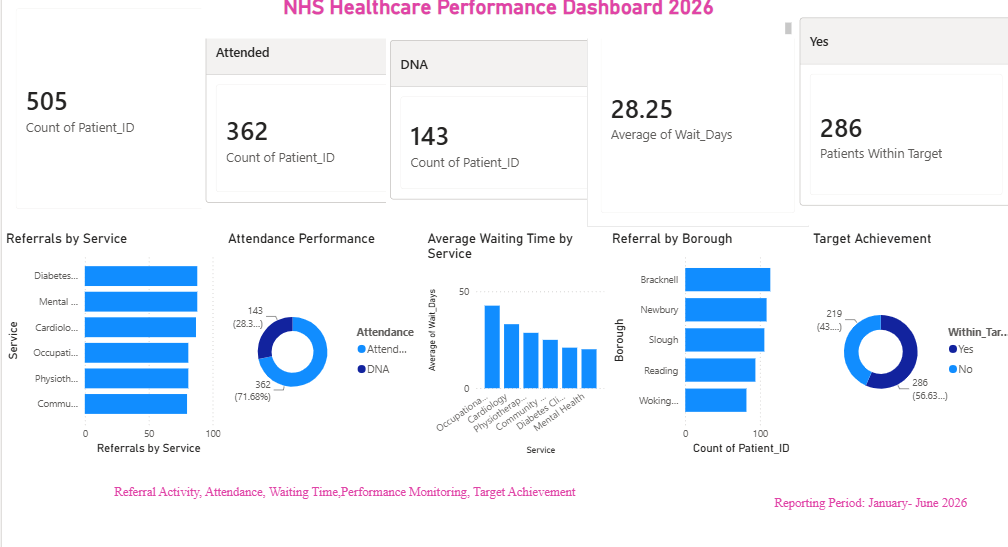

This screenshot's page, from the dashboard's own definition file:
{"tool":"powerbi","page":{"name":"Page 1","canvas":[1280,720],"ordinal":0},"visuals":[{"type":"cardVisual","fields":{"Data":["CountNonNull(Sheet2.Patient_ID)"]},"box":[10,0,280,280],"z":0},{"type":"cardVisual","fields":{"Data":["CountNonNull(Sheet2.Patient_ID)"]},"box":[0,9.4,279.7,287.2],"z":2},{"type":"cardVisual","fields":{"Data":["CountNonNull(Sheet2.Patient_ID)"],"Rows":["Sheet2.Attendance"]},"box":[251.3,26.5,279.7,270.2],"z":4},{"type":"cardVisual","fields":{"Data":["CountNonNull(Sheet2.Patient_ID)"],"Rows":["Sheet2.Attendance"]},"box":[483.8,41.6,279.7,251.3],"z":5},{"type":"cardVisual","fields":{"Data":["Avg(Sheet2.Wait_Days)"]},"box":[737,22.7,279.7,279.7],"z":6},{"type":"cardVisual","fields":{"Data":["CountNonNull(Sheet2.Patient_ID)"],"Rows":["Sheet2.Within_Target"]},"box":[999.7,13.2,279.7,287.2],"z":7},{"type":"clusteredBarChart","title":"Referrals by Service","fields":{"Category":["Sheet2.Service"],"Y":["CountNonNull(Sheet2.Patient_ID)"]},"box":[0,306,280,287],"z":8},{"type":"donutChart","title":"Attendance Performance","fields":{"Category":["Sheet2.Attendance"],"Y":["CountNonNull(Sheet2.Patient_ID)"]},"box":[280,306,251,287],"z":9},{"type":"clusteredColumnChart","title":"Average Waiting Time by Service","fields":{"Category":["Sheet2.Service"],"Y":["Avg(Sheet2.Wait_Days)"]},"box":[531,306,233,287],"z":10},{"type":"clusteredBarChart","title":"Referral by Borough","fields":{"Category":["Sheet2.Borough"],"Y":["CountNonNull(Sheet2.Patient_ID)"]},"box":[764,306,253,287],"z":11},{"type":"donutChart","title":"Target Achievement","fields":{"Category":["Sheet2.Within_Target"],"Y":["CountNonNull(Sheet2.Patient_ID)"]},"box":[1017,306,263,287],"z":12},{"type":"textbox","title":"NHS Healthcare Performance Dashboard 2026","box":[251.3,9.4,748.4,54.8],"z":13},{"type":"textbox","title":"Referral Activity, Attendance, Waiting Time,Performance Monitoring, Target Achievement","box":[100.2,627.4,663.3,64.3],"z":14},{"type":"textbox","title":"Reporting Period: January- June 2026","box":[939.2,640.6,281.6,51],"z":15}]}

Visuals, with their boxes on the page's 1280x720 design canvas (x1, y1, x2, y2). These are canvas units, not pixel positions in the 1008x547 screenshot, which may show the page scaled, cropped or inside an application window:
cardVisual - CountNonNull(Sheet2.Patient_ID): 10,0,290,280
cardVisual - CountNonNull(Sheet2.Patient_ID): 0,9,280,297
cardVisual - CountNonNull(Sheet2.Patient_ID) x Sheet2.Attendance: 251,26,531,297
cardVisual - CountNonNull(Sheet2.Patient_ID) x Sheet2.Attendance: 484,42,764,293
cardVisual - Avg(Sheet2.Wait_Days): 737,23,1017,302
cardVisual - CountNonNull(Sheet2.Patient_ID) x Sheet2.Within_Target: 1000,13,1279,300
"Referrals by Service" clusteredBarChart: 0,306,280,593
"Attendance Performance" donutChart: 280,306,531,593
"Average Waiting Time by Service" clusteredColumnChart: 531,306,764,593
"Referral by Borough" clusteredBarChart: 764,306,1017,593
"Target Achievement" donutChart: 1017,306,1280,593
"NHS Healthcare Performance Dashboard 2026" textbox: 251,9,1000,64
"Referral Activity, Attendance, Waiting Time,Performance Monitoring, Target Achievement" textbox: 100,627,764,692
"Reporting Period: January- June 2026" textbox: 939,641,1221,692
